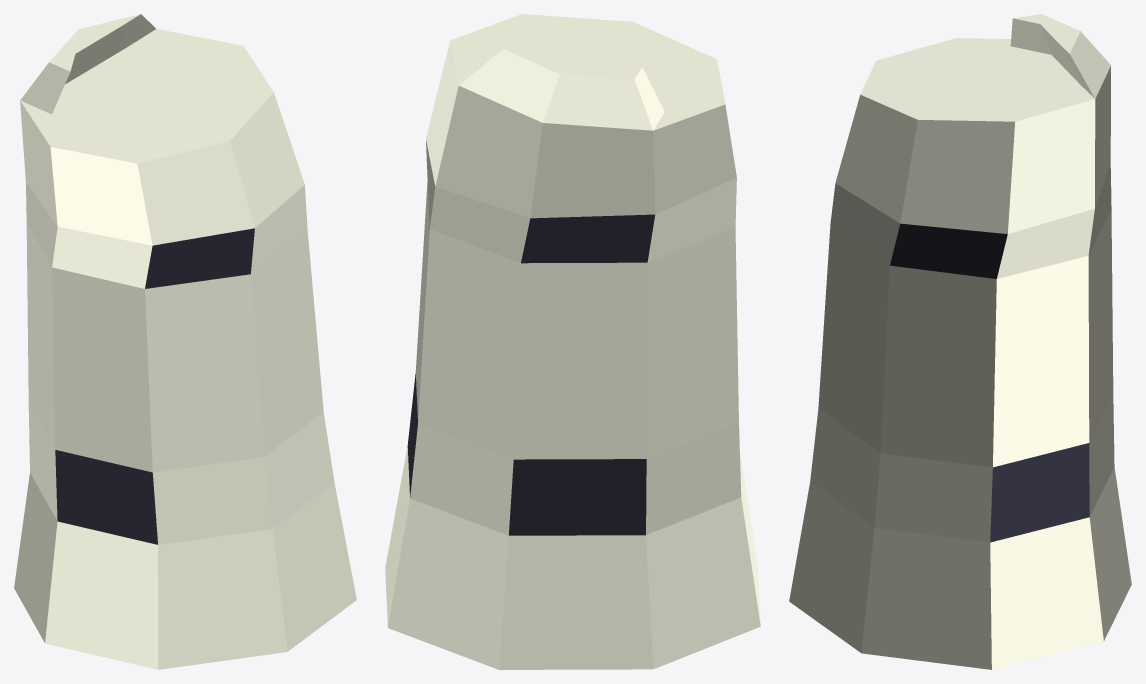
Rendered from Stump1_winter.FBX.
The picture shows the model from 3 angles, left to right: view 1: azimuth 30°, elevation 25°; view 2: azimuth 150°, elevation 25°; view 3: azimuth 270°, elevation 25°; orthographic projection. The views are drawn at different scales.
Visible parts, largest first — view 1: Berezka pen.008; view 2: Berezka pen.008; view 3: Berezka pen.008.
Boxes of the visible parts, left/top/right/bottom form: Berezka pen.008: left=14, top=14, right=356, bottom=669; Berezka pen.008: left=385, top=14, right=760, bottom=669; Berezka pen.008: left=789, top=14, right=1131, bottom=669.
Size of the model in its own units: 0.3335 by 0.5497 by 0.3139.
